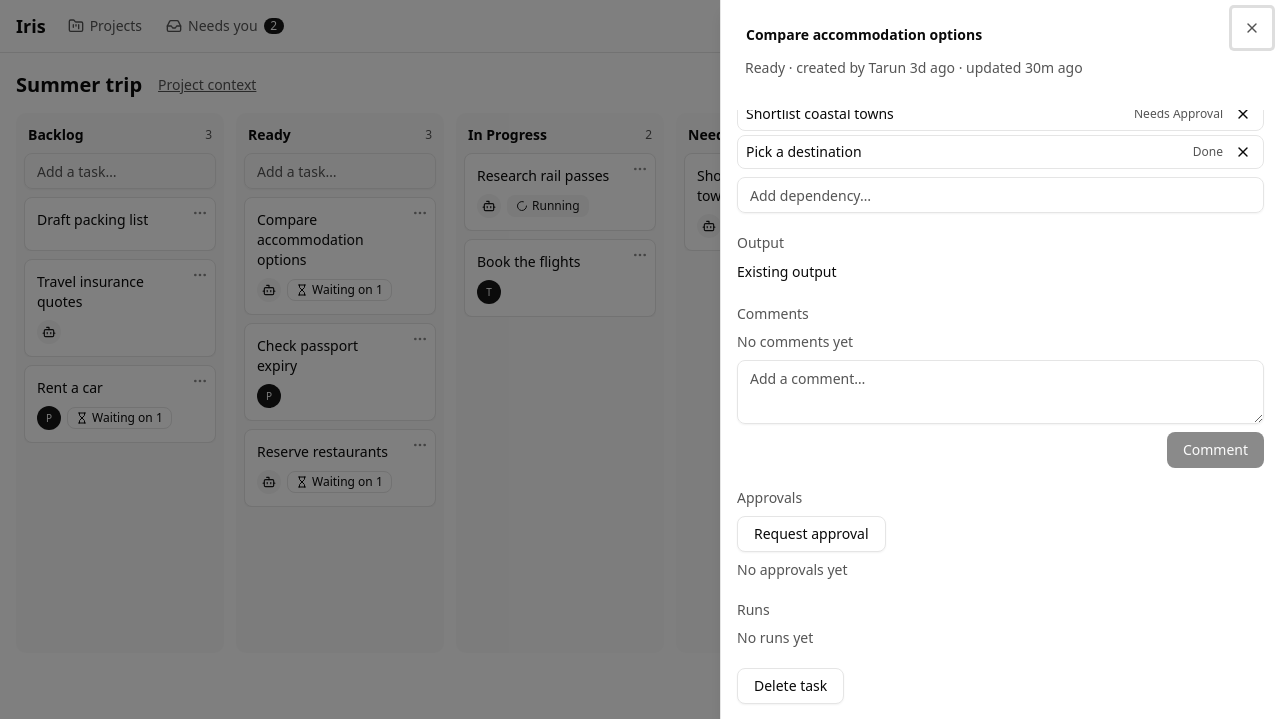
Test case: requesting approval › the request form is hidden when pending or done, and prefilled from output
The image size is (1280, 719).
(page scrolled)
Click the button "Request approval". click: (811, 534)
box: [737,516,886,552]
(page scrolled)
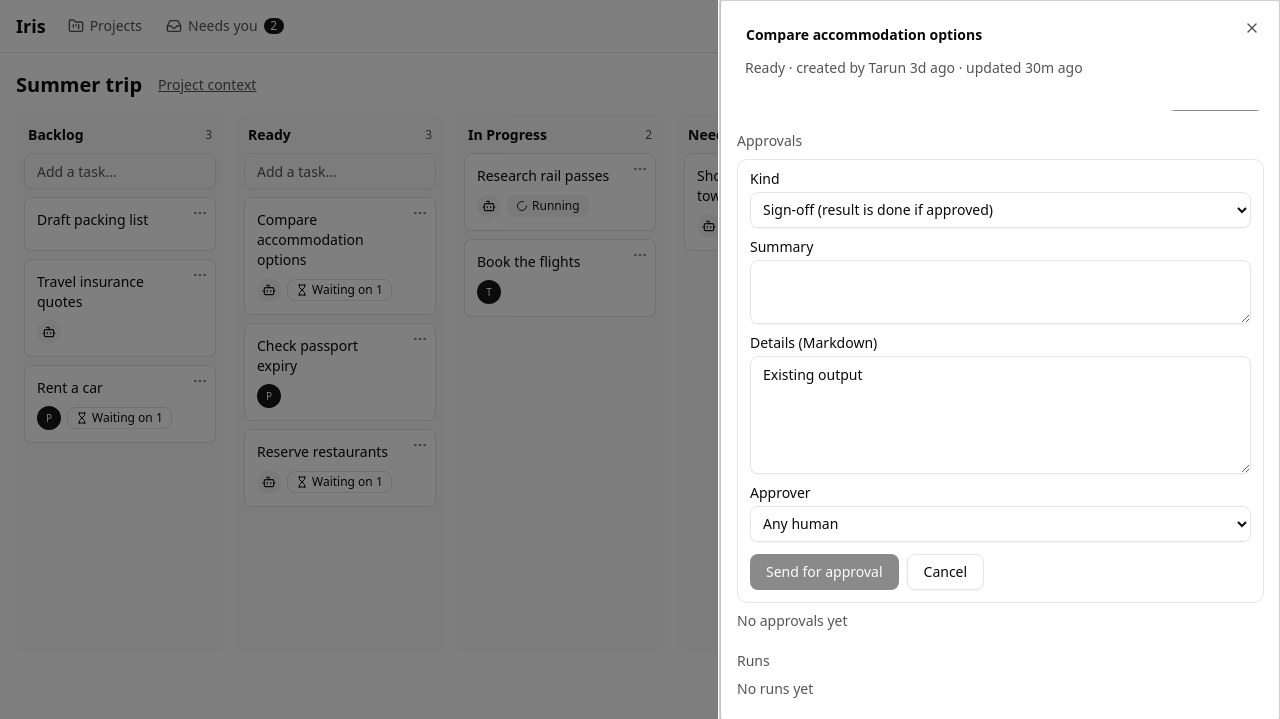
expect the text box labelled "Details (Markdown)" holds "Existing output": met, box [750,356,1251,474]
